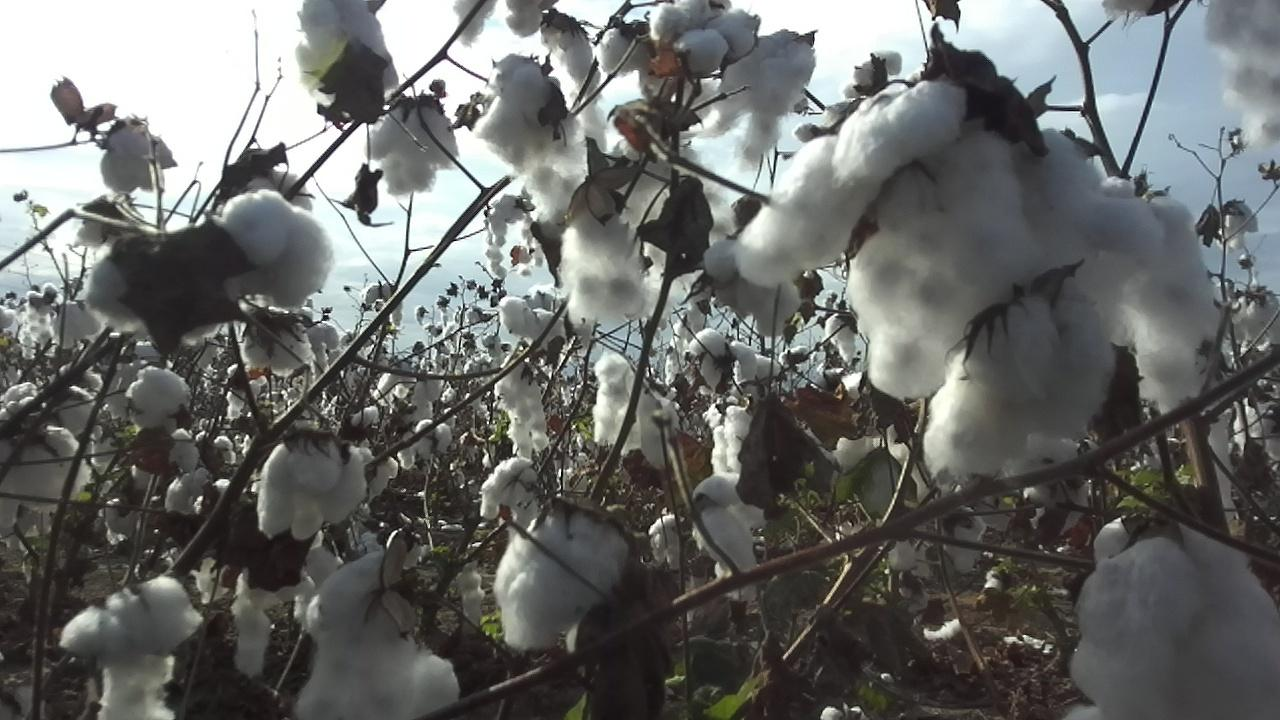cotton_ready: (734, 79, 1169, 398), (923, 284, 1114, 480), (1073, 540, 1280, 720), (1085, 173, 1227, 415), (294, 552, 460, 720), (62, 575, 206, 720), (496, 516, 630, 652), (534, 168, 645, 325), (87, 248, 242, 346), (711, 27, 816, 170), (232, 546, 339, 685), (209, 193, 329, 309), (604, 112, 705, 234), (703, 213, 803, 336), (484, 52, 586, 172), (256, 436, 369, 541), (1205, 0, 1280, 147), (832, 423, 953, 512), (593, 347, 673, 469), (298, 0, 399, 95), (0, 423, 89, 529), (695, 475, 767, 600), (369, 101, 459, 195), (651, 0, 760, 75), (545, 17, 607, 146), (103, 120, 177, 196), (1201, 374, 1236, 527), (499, 360, 550, 461), (599, 27, 670, 98), (240, 312, 314, 375), (1024, 474, 1089, 545), (478, 457, 542, 526), (128, 367, 193, 431), (692, 327, 756, 390), (710, 403, 751, 483), (1226, 286, 1280, 343), (503, 297, 564, 345), (236, 170, 313, 208), (1095, 517, 1136, 562), (670, 75, 713, 117), (506, 0, 555, 36), (456, 0, 492, 47), (1103, 0, 1163, 19)
